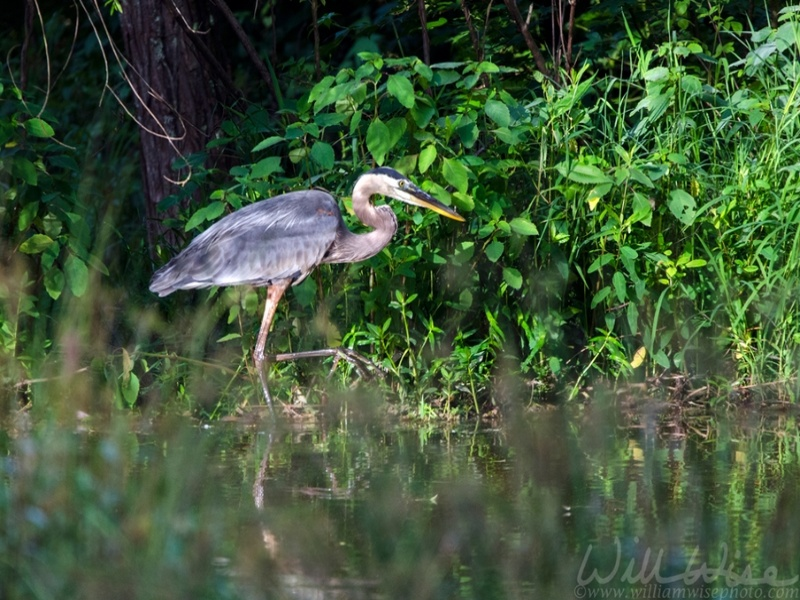heron: (144, 157, 468, 416)
